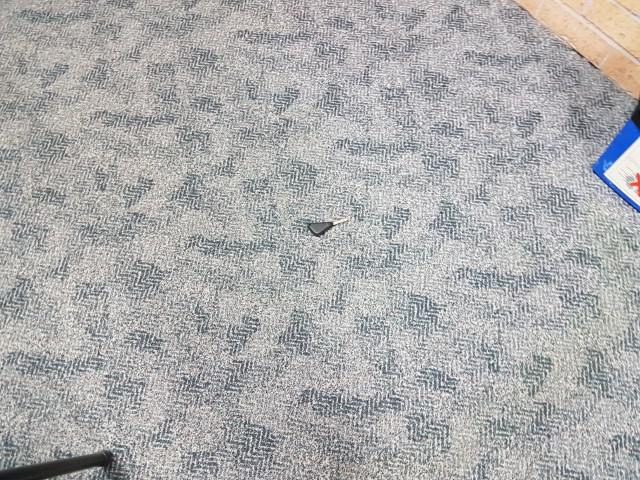key: (308, 216, 348, 235)
